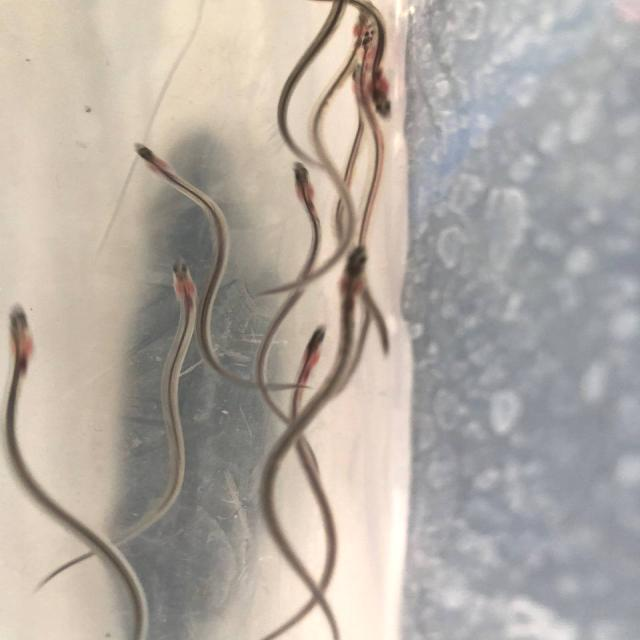glass_eel: (358, 64, 410, 126), (121, 141, 192, 185), (324, 239, 379, 293), (0, 301, 40, 374), (162, 254, 214, 306), (294, 322, 340, 374), (347, 16, 389, 58), (287, 158, 323, 206)
